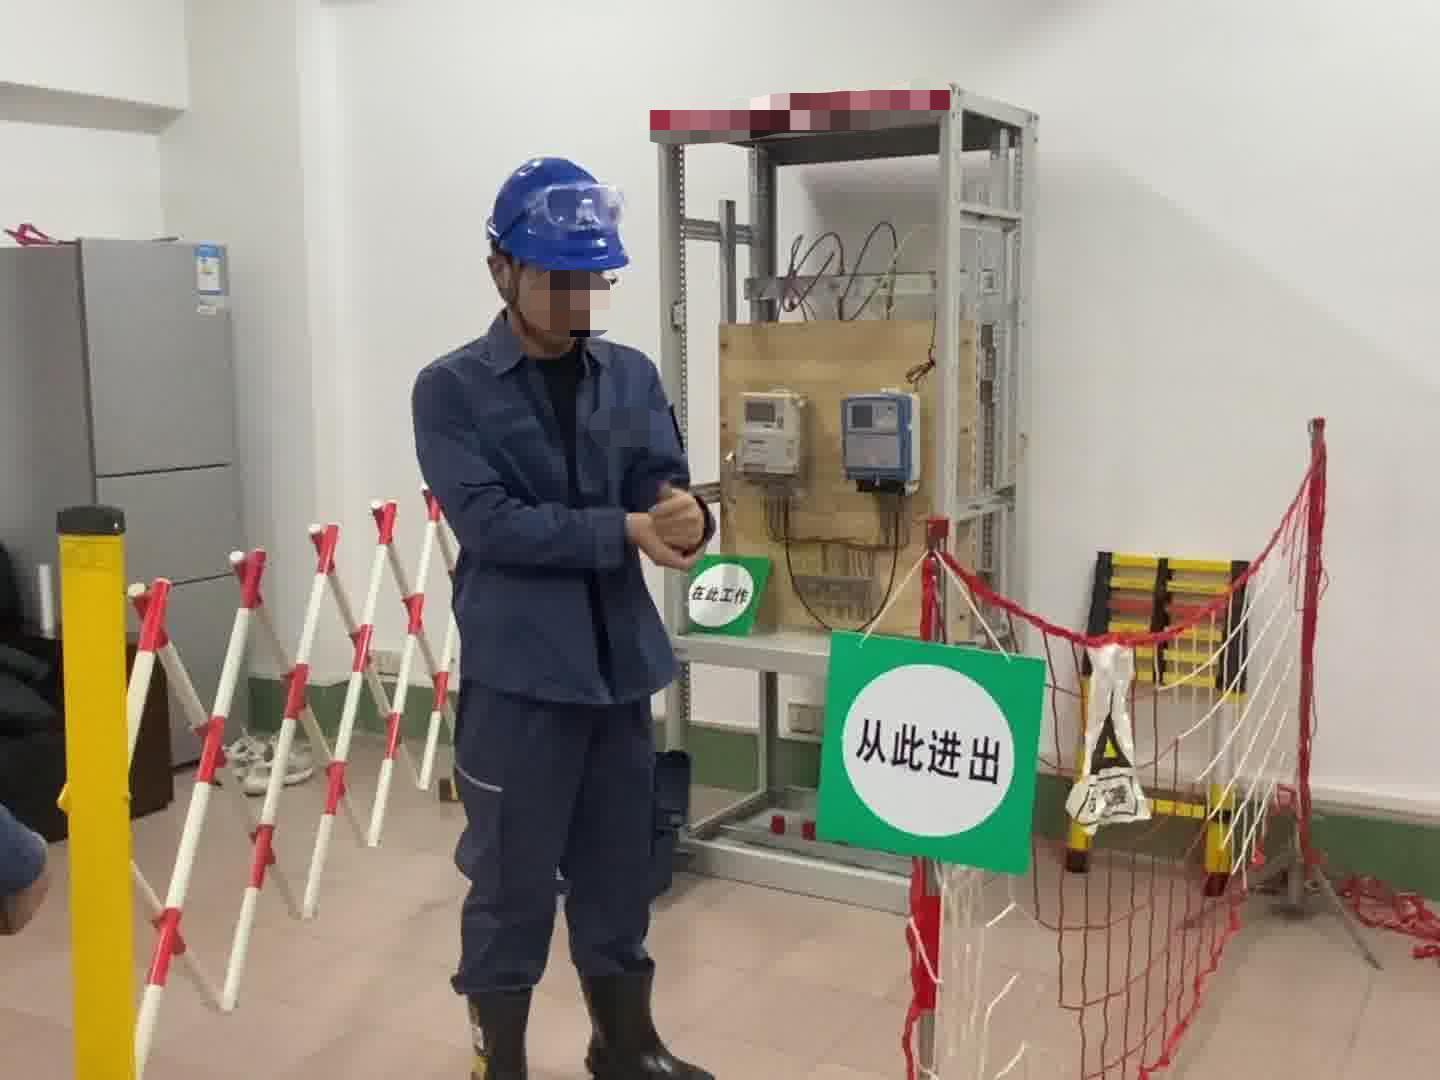halt: (483, 157, 634, 354)
inear: (488, 252, 534, 317)
